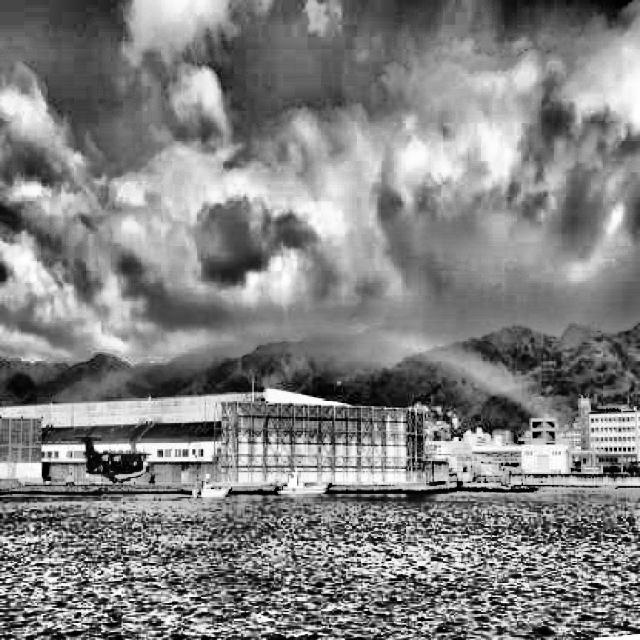US2: (73, 434, 153, 484)
